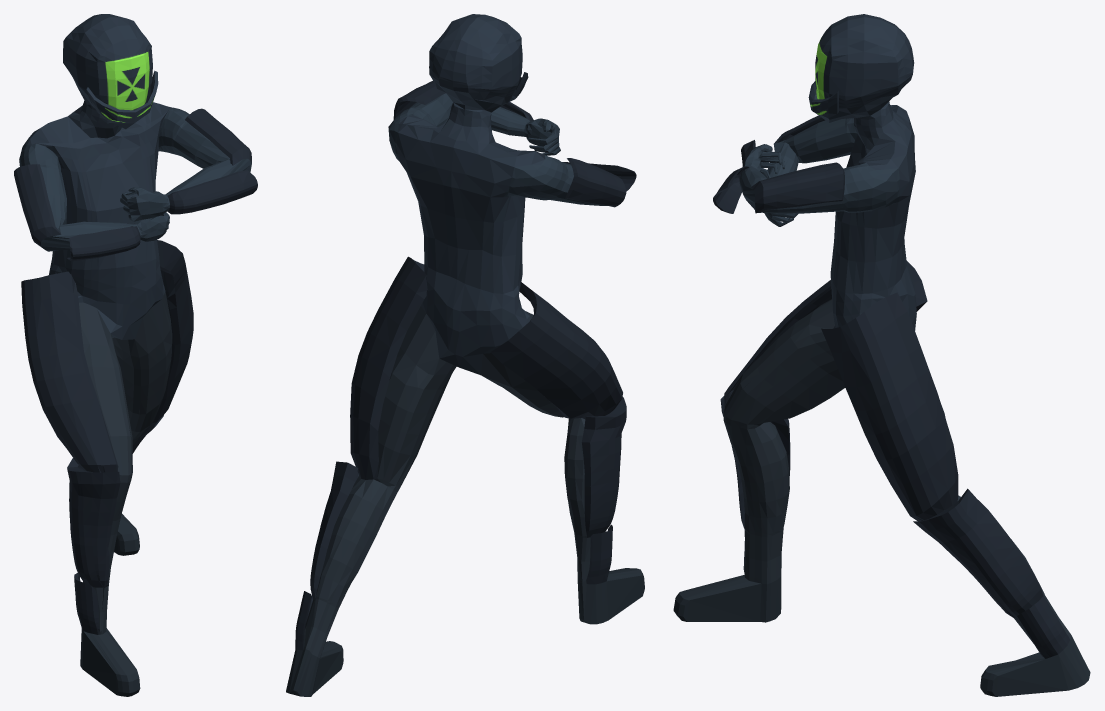
Rendered from Bastion_WF_000000.obj.
3 renders of one model, left to right at view 1: azimuth 30°, elevation 25°; view 2: azimuth 150°, elevation 25°; view 3: azimuth 270°, elevation 25°, orthographic. The views are drawn at different scales.
Parts seen in each view (by area): view 1: Cube.002; view 2: Cube.002; view 3: Cube.002.
Part boxes in pixels (x1,y1,x2,y2): Cube.002: [14, 14, 257, 696]; Cube.002: [286, 14, 644, 696]; Cube.002: [673, 14, 1090, 696].
Bounding box in the file's own units: 1.31 × 3.59 × 2.14.
